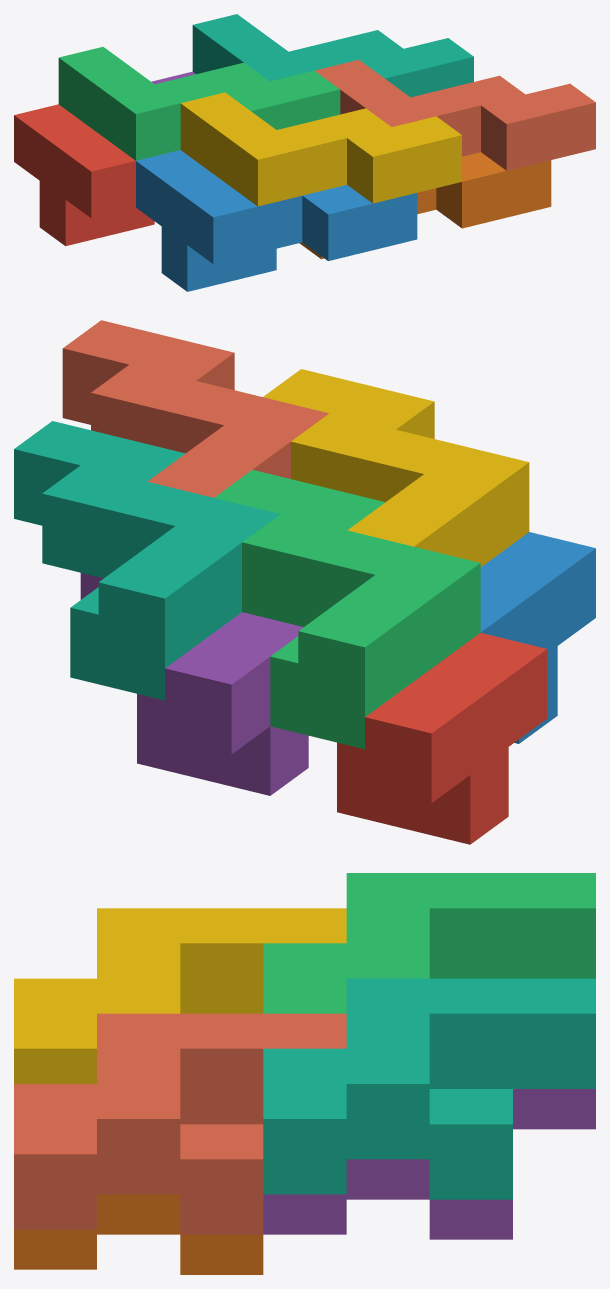
Rendered from tiling.obj.
3 views of the same model, one above another, from view 1: azimuth 30°, elevation 25°; view 2: azimuth 150°, elevation 25°; view 3: azimuth 270°, elevation 25° (orthographic). The views are drawn at different scales.
Parts seen in each view (by area): view 1: copy_1_domain_2, copy_1_domain_4, copy_1_domain_3, copy_1_domain_8, copy_1_domain_1, copy_1_domain_7, copy_1_domain_6; view 2: copy_1_domain_3, copy_1_domain_7, copy_1_domain_1, copy_1_domain_4, copy_1_domain_8, copy_1_domain_5, copy_1_domain_2; view 3: copy_1_domain_7, copy_1_domain_8, copy_1_domain_3, copy_1_domain_4, copy_1_domain_5, copy_1_domain_6.
Part boxes in pixels (box(x1,y1,x2,y2)): copy_1_domain_2: box(136, 150, 417, 291); copy_1_domain_4: box(180, 92, 461, 206); copy_1_domain_3: box(58, 47, 340, 160); copy_1_domain_8: box(314, 60, 595, 170); copy_1_domain_1: box(14, 104, 154, 246); copy_1_domain_7: box(192, 14, 473, 97); copy_1_domain_6: box(299, 152, 551, 259); copy_1_domain_3: box(214, 470, 480, 749); copy_1_domain_7: box(14, 421, 280, 700); copy_1_domain_1: box(337, 632, 547, 844); copy_1_domain_4: box(263, 369, 529, 566); copy_1_domain_8: box(62, 320, 328, 497); copy_1_domain_5: box(80, 573, 308, 795); copy_1_domain_2: box(480, 532, 595, 743); copy_1_domain_7: box(263, 978, 595, 1199); copy_1_domain_8: box(14, 1013, 346, 1234); copy_1_domain_3: box(263, 873, 595, 1013); copy_1_domain_4: box(14, 908, 346, 1083); copy_1_domain_5: box(263, 1089, 595, 1239); copy_1_domain_6: box(14, 1194, 263, 1274).
Size of the model in its own units: 9 by 3 by 7.
